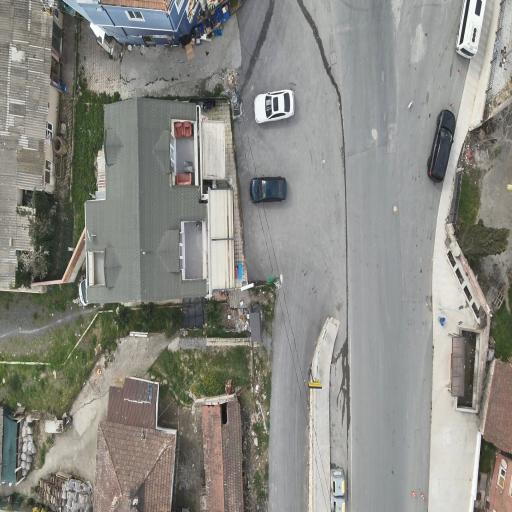car: (428, 110, 455, 182), (455, 0, 486, 58), (255, 90, 294, 123), (250, 177, 286, 202), (79, 279, 88, 306)
